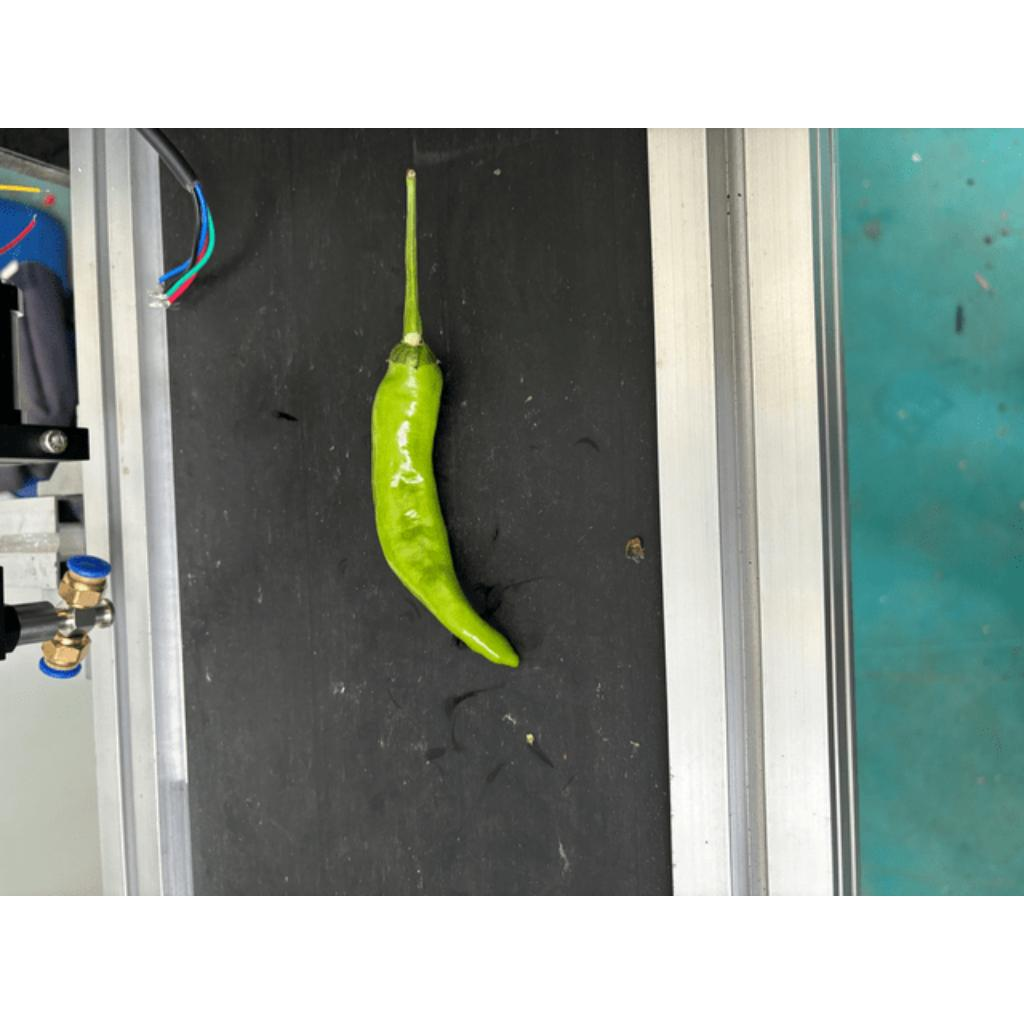chili: (367, 342, 527, 669)
